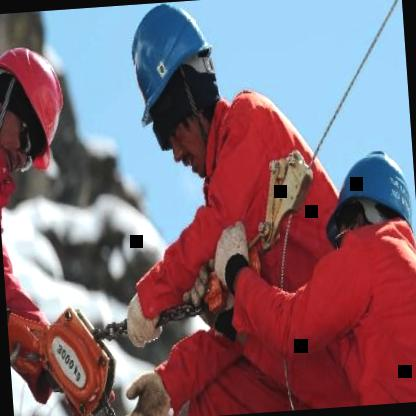helmet: (115, 1, 238, 182), (313, 132, 416, 279), (0, 32, 77, 194)
